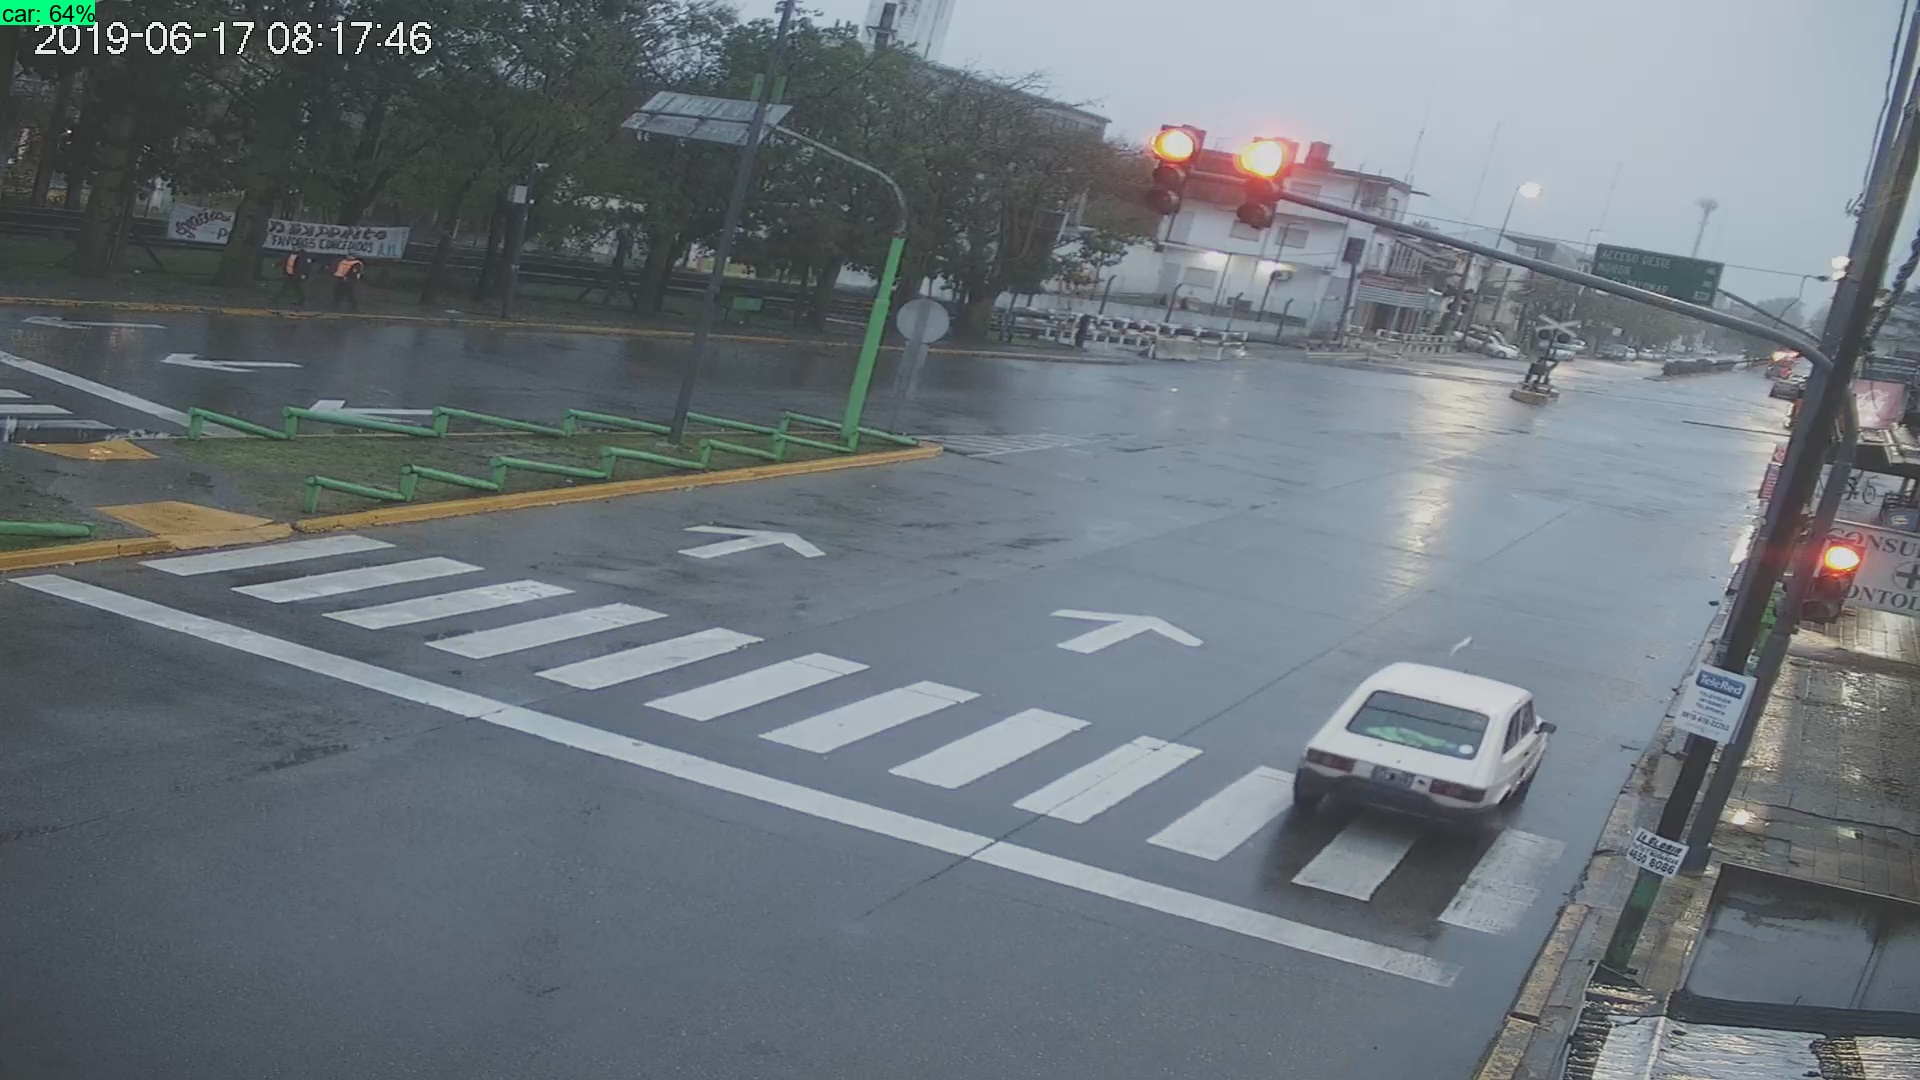car: (1300, 645, 1556, 832)
